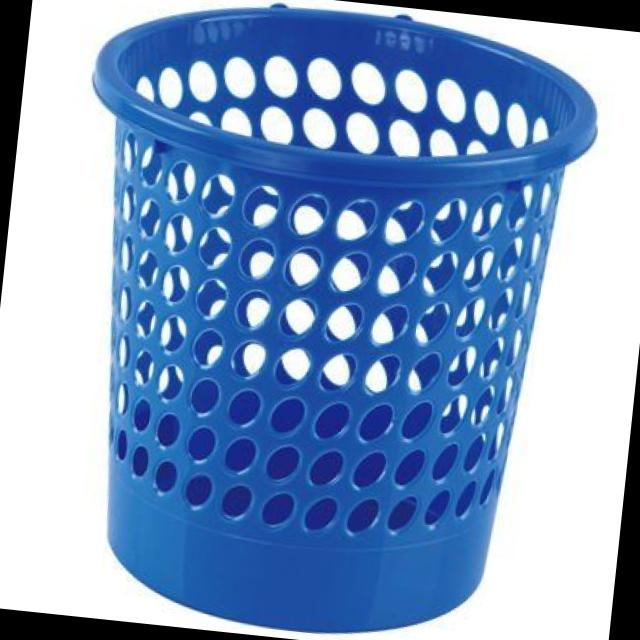dustbin: (30, 0, 616, 640)
